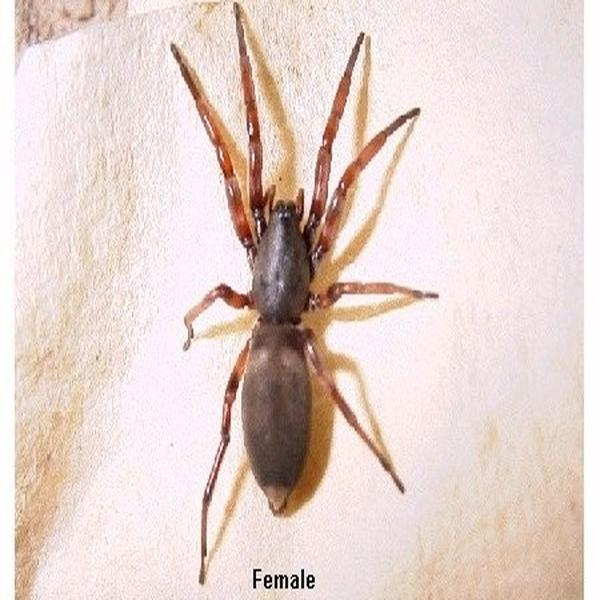White-Tailed Spider: (171, 7, 435, 555)
